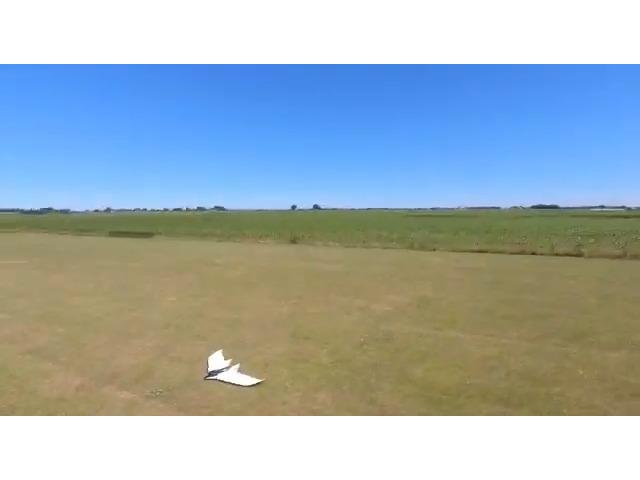Anti-Drone: (192, 340, 266, 391)
